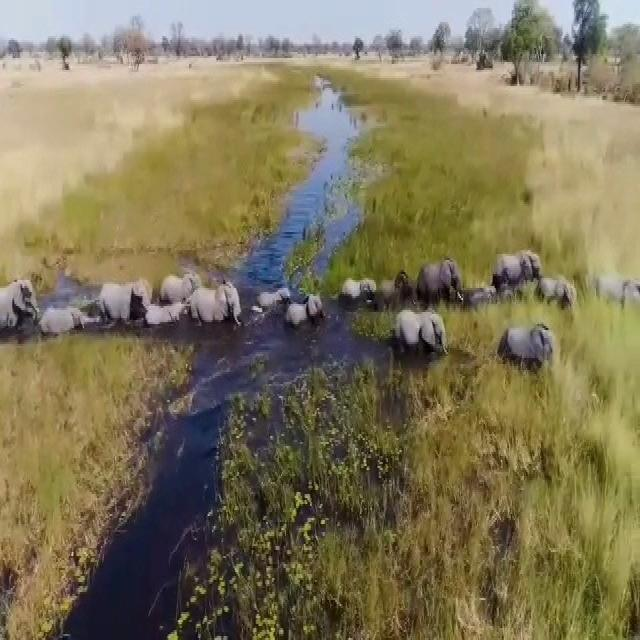Elephant: (497, 319, 554, 384), (193, 275, 246, 343), (412, 243, 462, 312), (498, 230, 546, 298), (274, 289, 327, 349), (396, 306, 453, 361), (105, 273, 150, 333), (37, 304, 94, 346), (337, 266, 381, 309), (0, 284, 39, 332), (539, 272, 582, 310), (161, 264, 199, 306), (598, 276, 640, 306), (260, 283, 290, 312), (465, 279, 497, 303), (516, 280, 517, 288)
